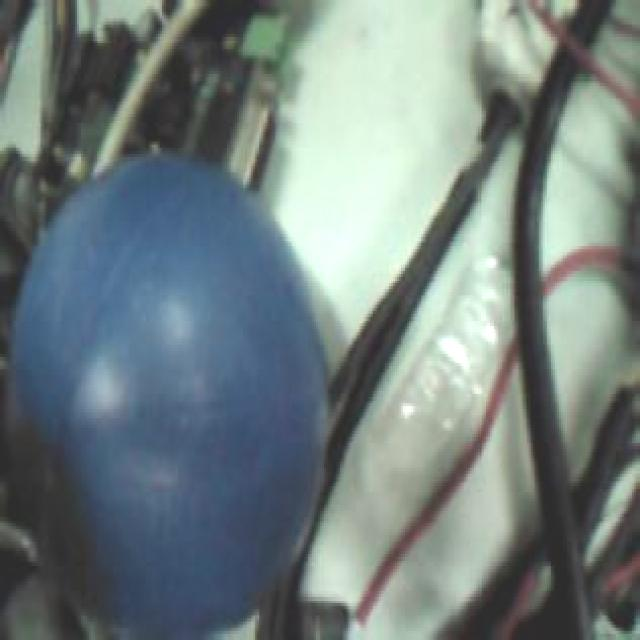BallPurple: (12, 149, 326, 638)
